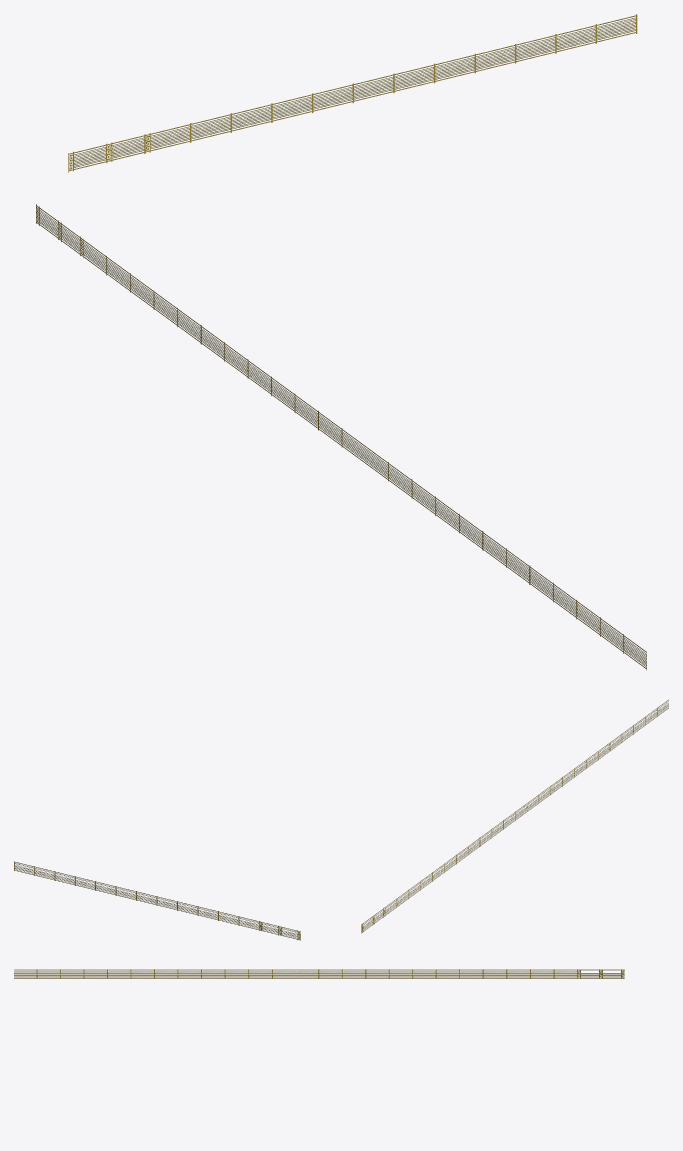
File: chnatwnfnc03_lvs.obj
3 renders of one model, top to bottom at view 1: azimuth 30°, elevation 25°; view 2: azimuth 150°, elevation 25°; view 3: azimuth 270°, elevation 25°, orthographic. The views are drawn at different scales.
Visible parts, largest first — view 1: chnatwnfnc03_lvs; view 2: chnatwnfnc03_lvs; view 3: chnatwnfnc03_lvs.
Part boxes in pixels (x1,y1,x2,y2): chnatwnfnc03_lvs: [36, 14, 646, 670]; chnatwnfnc03_lvs: [14, 699, 668, 940]; chnatwnfnc03_lvs: [14, 969, 624, 978].
Bounding box in the file's own units: 39.68 × 1.15 × 69.75.
Materials: 1 (1 with a texture image).
